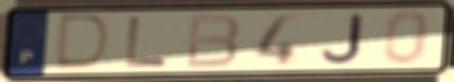0: (379, 8, 433, 68)
4: (251, 12, 302, 68)
B: (183, 12, 244, 70)
D: (51, 13, 115, 73)
J: (318, 12, 364, 66)
L: (122, 15, 171, 68)
